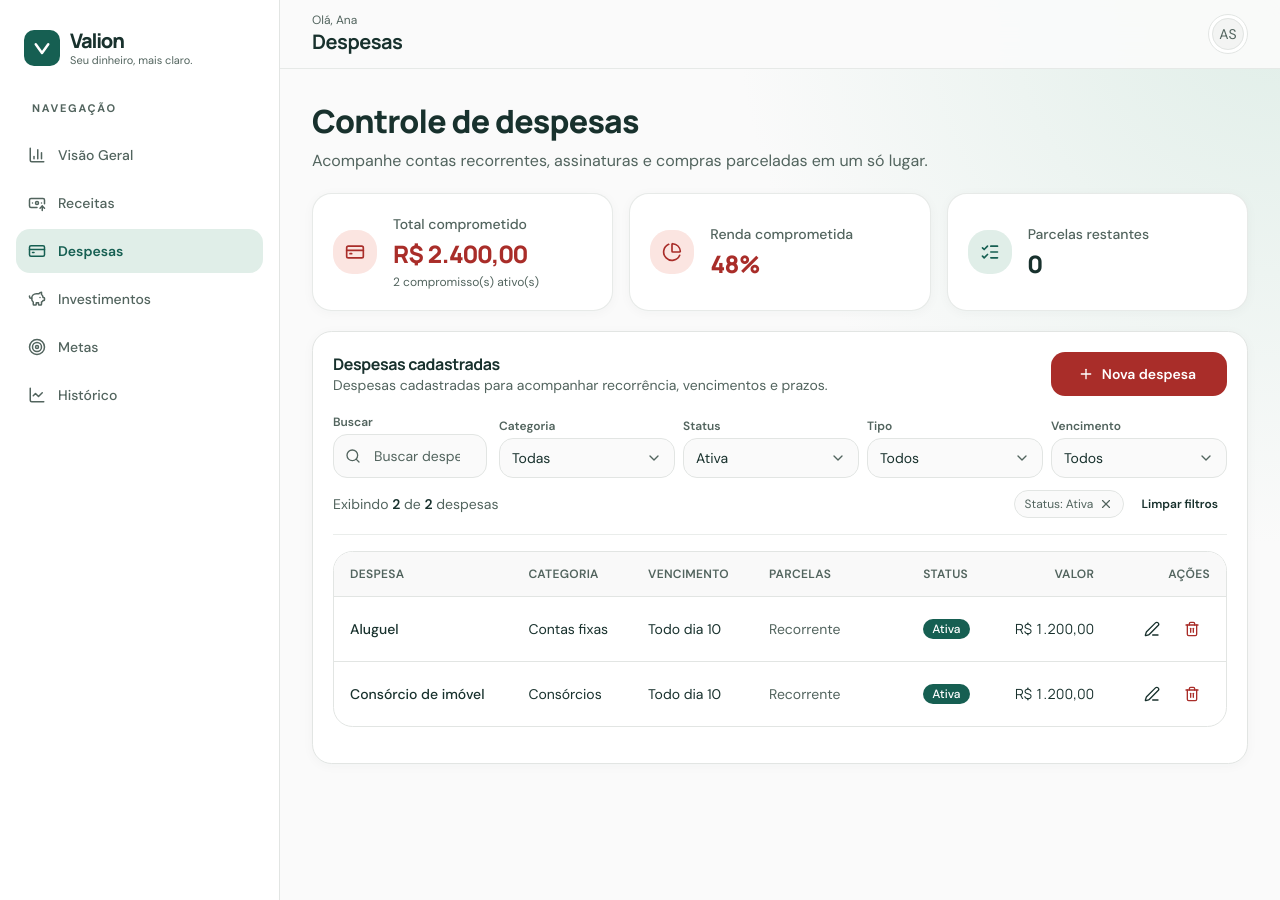
Test case: FinanceDashboard › filters expenses by category
Expected: the element named "Nova despesa" is shown, x1=312 y1=331 x2=1248 y2=764
Expected: the button "Nova despesa" is shown, x1=1051 y1=352 x2=1227 y2=396
Step 1. Click the dropdown named "Categoria" → x=587, y=458, box x1=499 y1=438 x2=675 y2=478
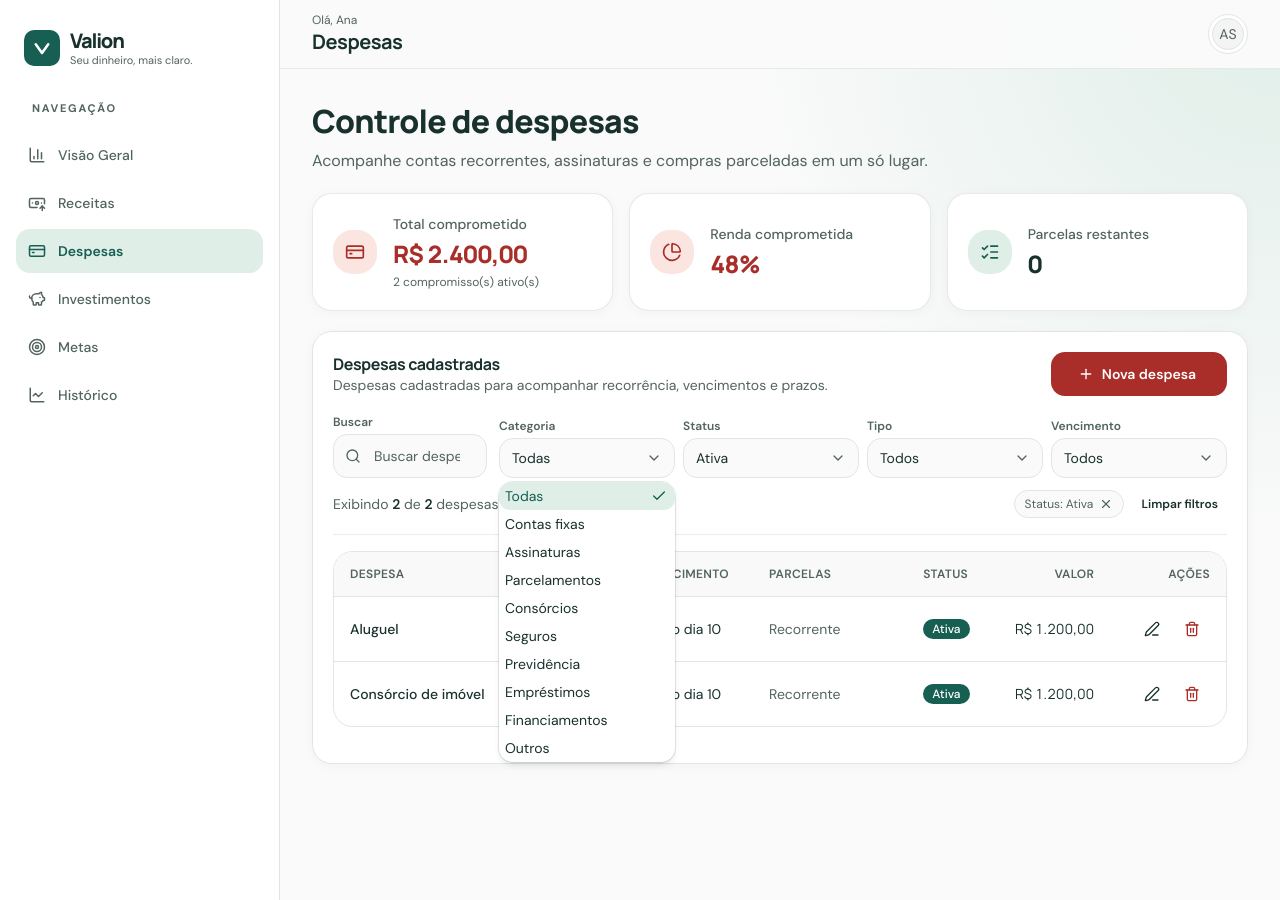
Expected: the option "Todas" is shown, x1=499 y1=482 x2=675 y2=510
Step 2. Click the option "Consórcios" → x=542, y=608, box x1=505 y1=599 x2=578 y2=617
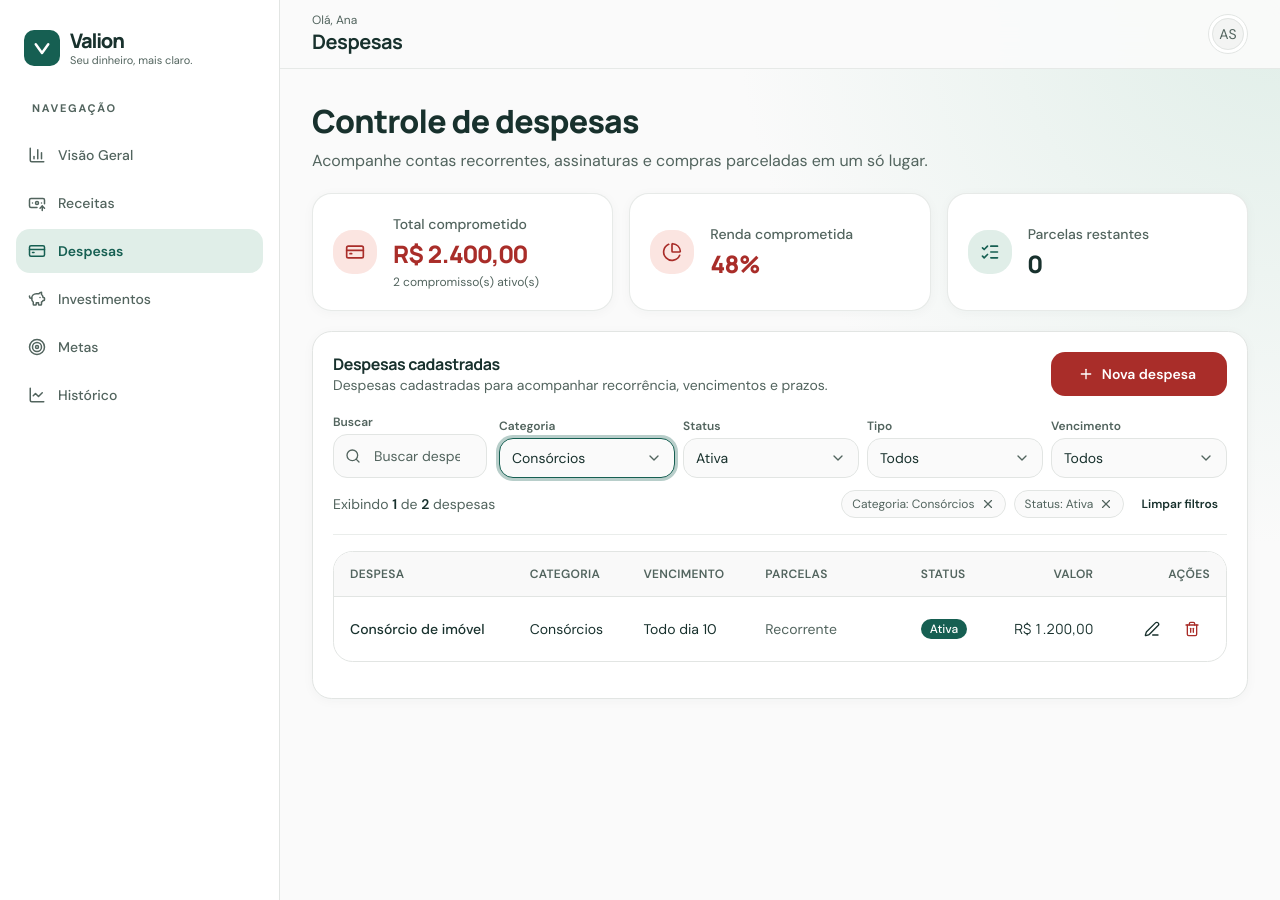
Expected: the text "Consórcio de imóvel" is shown, x1=350 y1=618 x2=498 y2=638
Expected: the text "Aluguel" is gone
